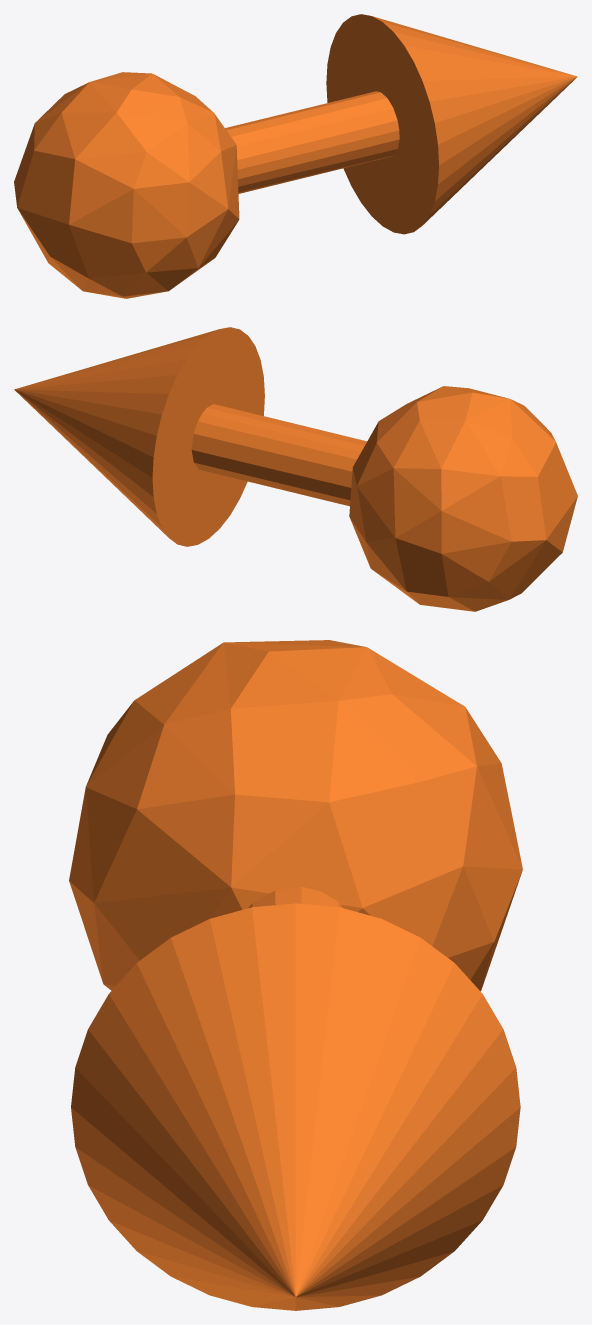
File: goalmarker.glb
3 views of the same model, one above another, from view 1: azimuth 30°, elevation 25°; view 2: azimuth 150°, elevation 25°; view 3: azimuth 270°, elevation 25° (orthographic). The views are drawn at different scales.
Parts seen in each view (by area): view 1: Sphere, Cone, Cylinder; view 2: Sphere, Cone, Cylinder; view 3: Cone, Sphere, Cylinder.
Boxes of the visible parts, x1,y1,x2,y2 form: Sphere: (14,72,239,298); Cone: (326,14,577,234); Cylinder: (225,91,399,193); Sphere: (349,386,577,611); Cone: (14,327,264,546); Cylinder: (191,404,366,506); Cone: (71,903,520,1310); Sphere: (69,640,522,991); Cylinder: (248,886,342,907).
Size of the model in its own units: 5.61 by 2.01 by 2.02.
